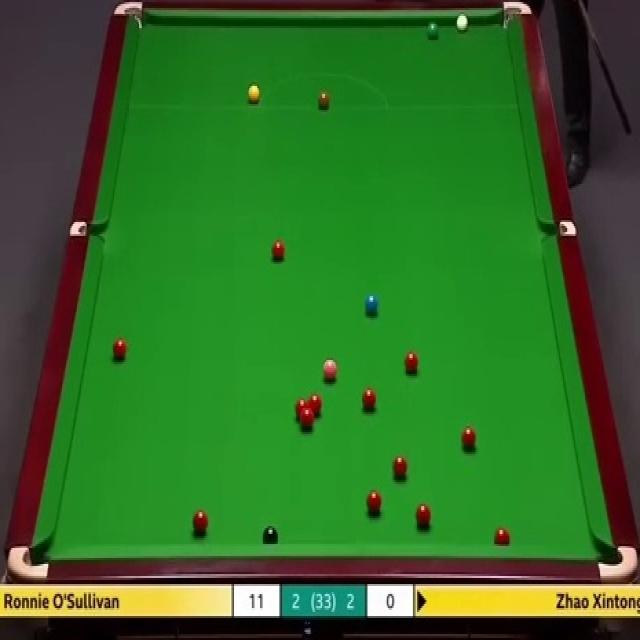black-ball: (262, 523, 280, 545)
blue-ball: (364, 292, 379, 317)
brown-ball: (316, 88, 330, 111)
green-ball: (425, 21, 440, 40)
pink-ball: (323, 354, 338, 382)
red-ball: (392, 452, 408, 483), (403, 349, 420, 378), (111, 336, 128, 363), (414, 503, 431, 529), (366, 489, 382, 515), (461, 426, 477, 451), (361, 387, 376, 412), (194, 508, 208, 534), (271, 239, 286, 262), (308, 394, 322, 418), (494, 526, 510, 546), (301, 410, 314, 430), (295, 398, 308, 418)
white-ball: (455, 11, 469, 34)
yellow-ball: (246, 83, 260, 103)
